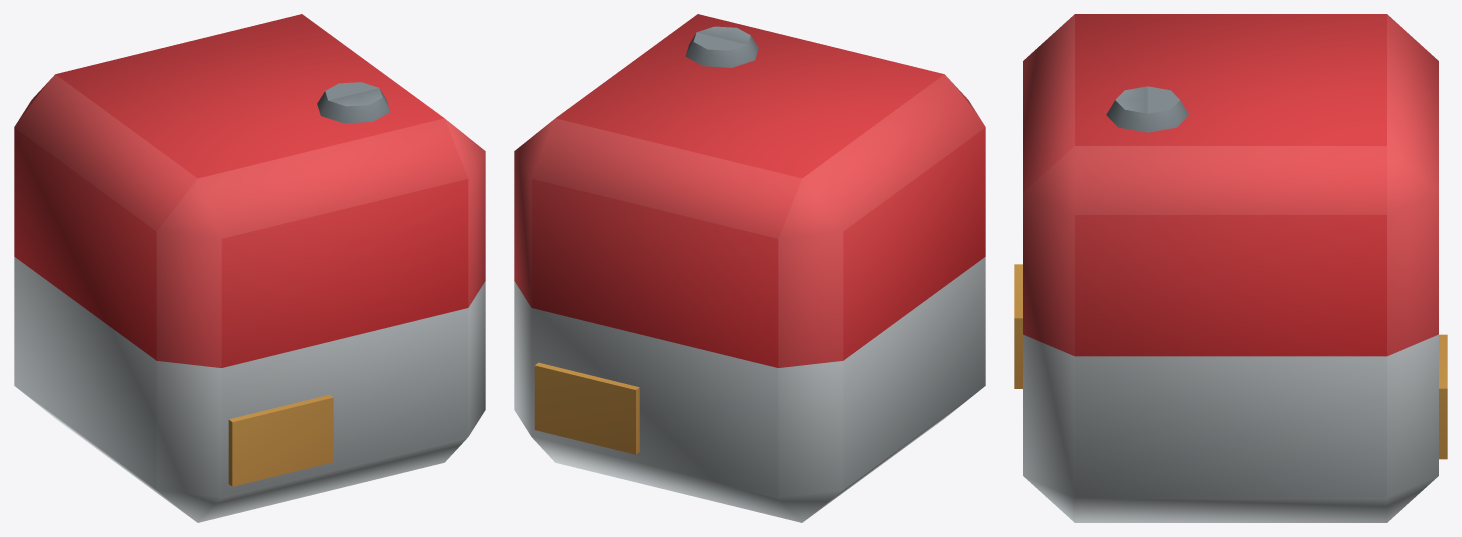
File: cargo_a.glb
The picture shows the model from 3 angles, left to right: view 1: azimuth 30°, elevation 25°; view 2: azimuth 150°, elevation 25°; view 3: azimuth 270°, elevation 25°; orthographic projection. The views are drawn at different scales.
Parts seen in each view (by area): view 1: cargo_A; view 2: cargo_A; view 3: cargo_A.
Boxes of the visible parts, x1,y1,x2,y2 form: cargo_A: [14, 14, 485, 522]; cargo_A: [514, 14, 985, 522]; cargo_A: [1014, 14, 1447, 522].
Size of the model in its own units: 1.5 by 1.56 by 1.56.
1 material, 1 textured.
